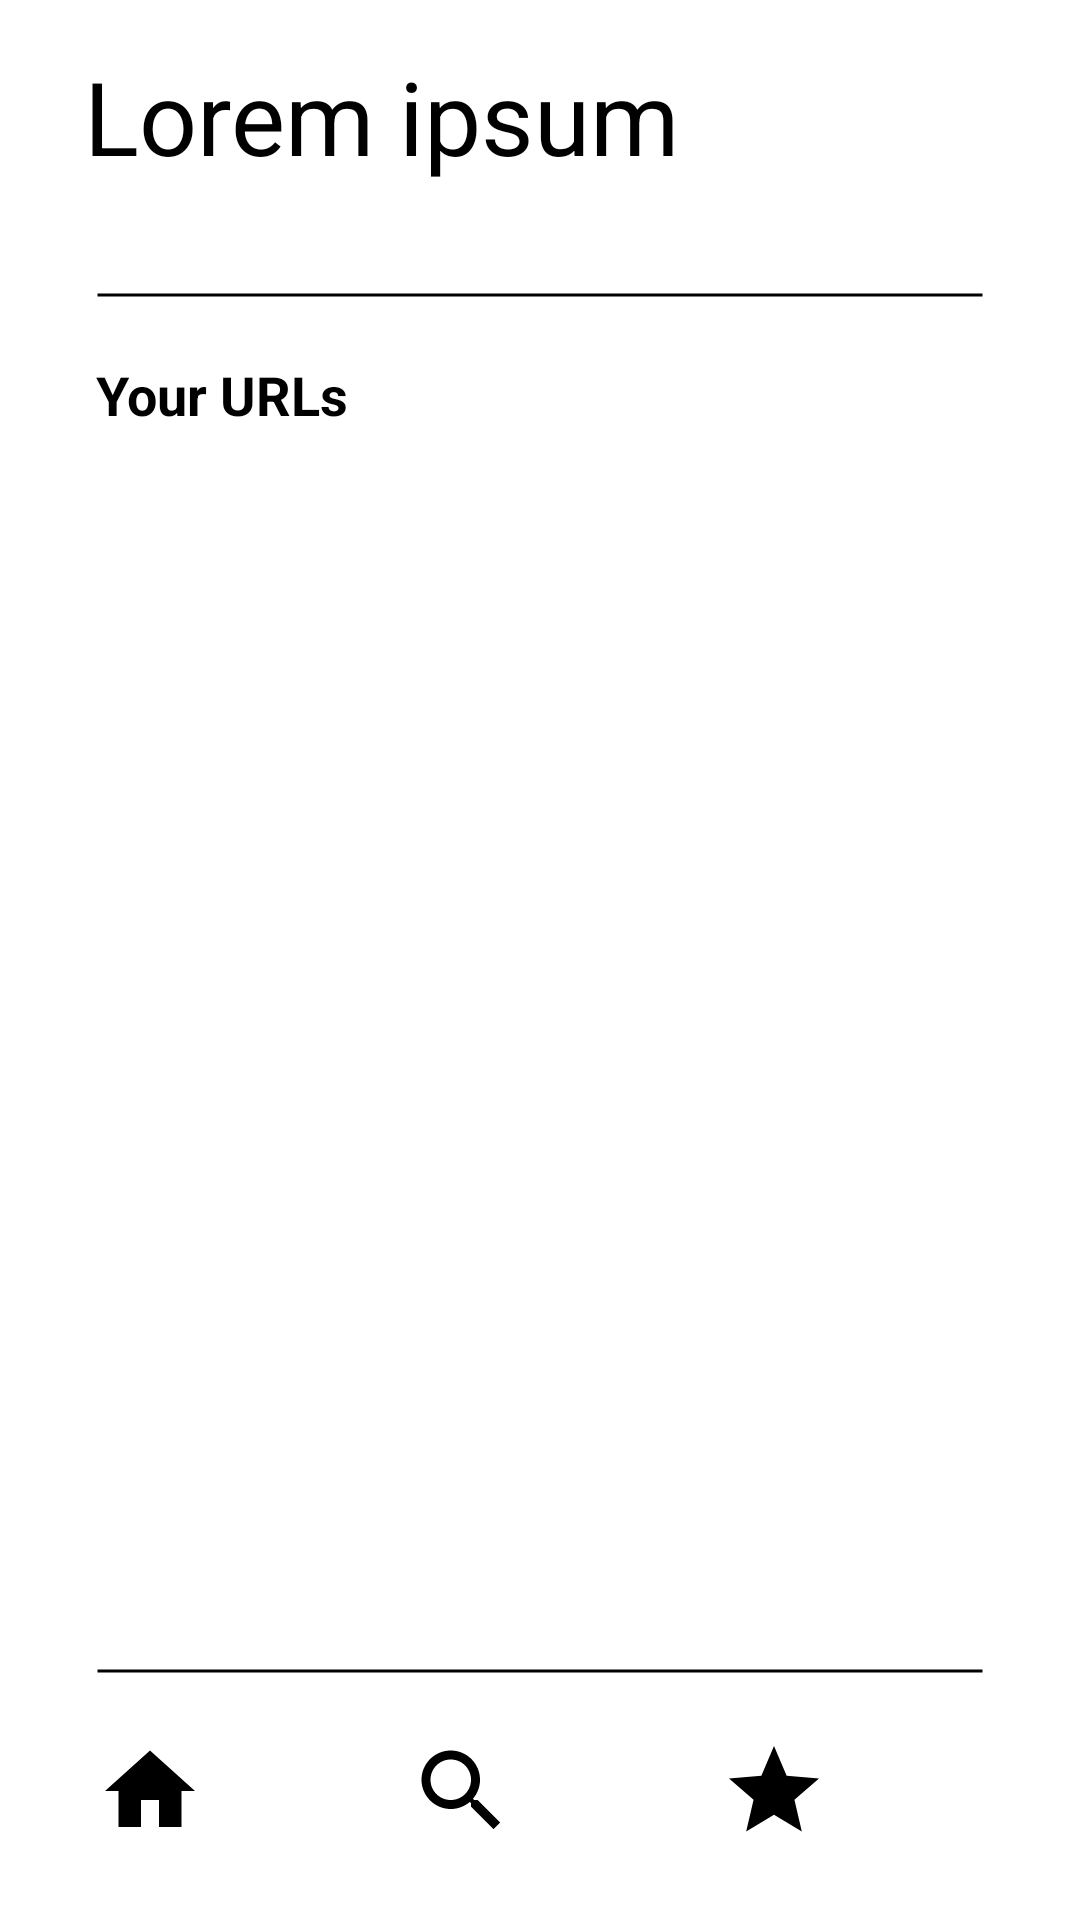

Screen size 1080px x 1920px. Icon name, then its center in pixels as (x,y):
home: (150,1788)
search: (460,1789)
star: (774,1789)
